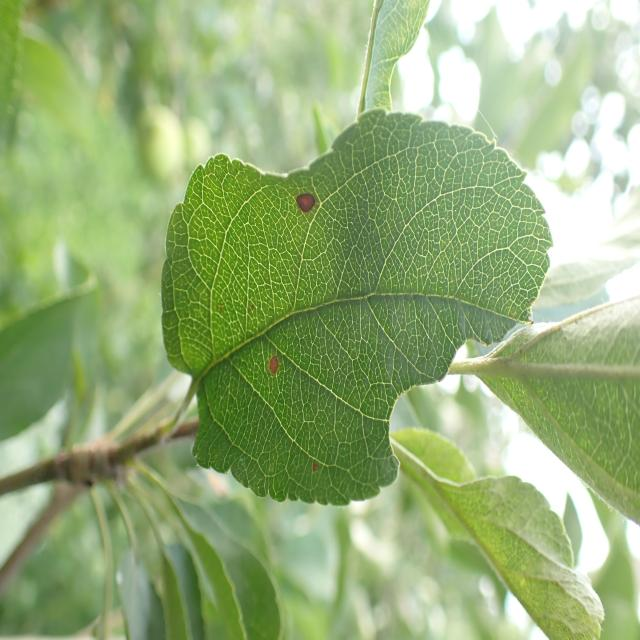Black Rot: (257, 345, 301, 398), (284, 180, 332, 224), (302, 443, 334, 498)
